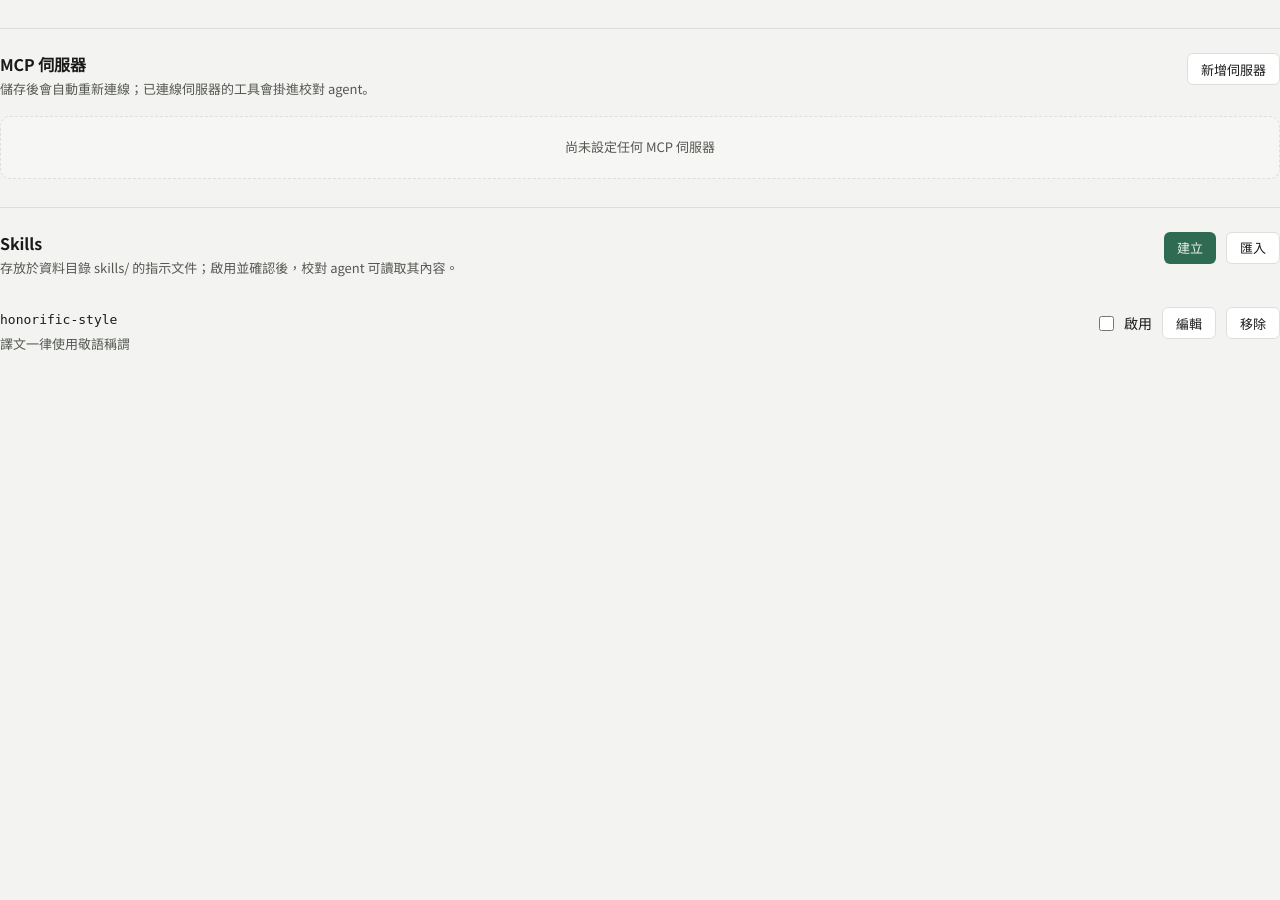
enabling an unconfirmed skill shows the SKILL.md; cancel keeps it off
What coordinates should you click on to do the following:
click the checkbox named "啟用 honorific-style"
I would click on:
 (1106, 323)
Its box is top-left (1099, 316), bottom-right (1114, 331).
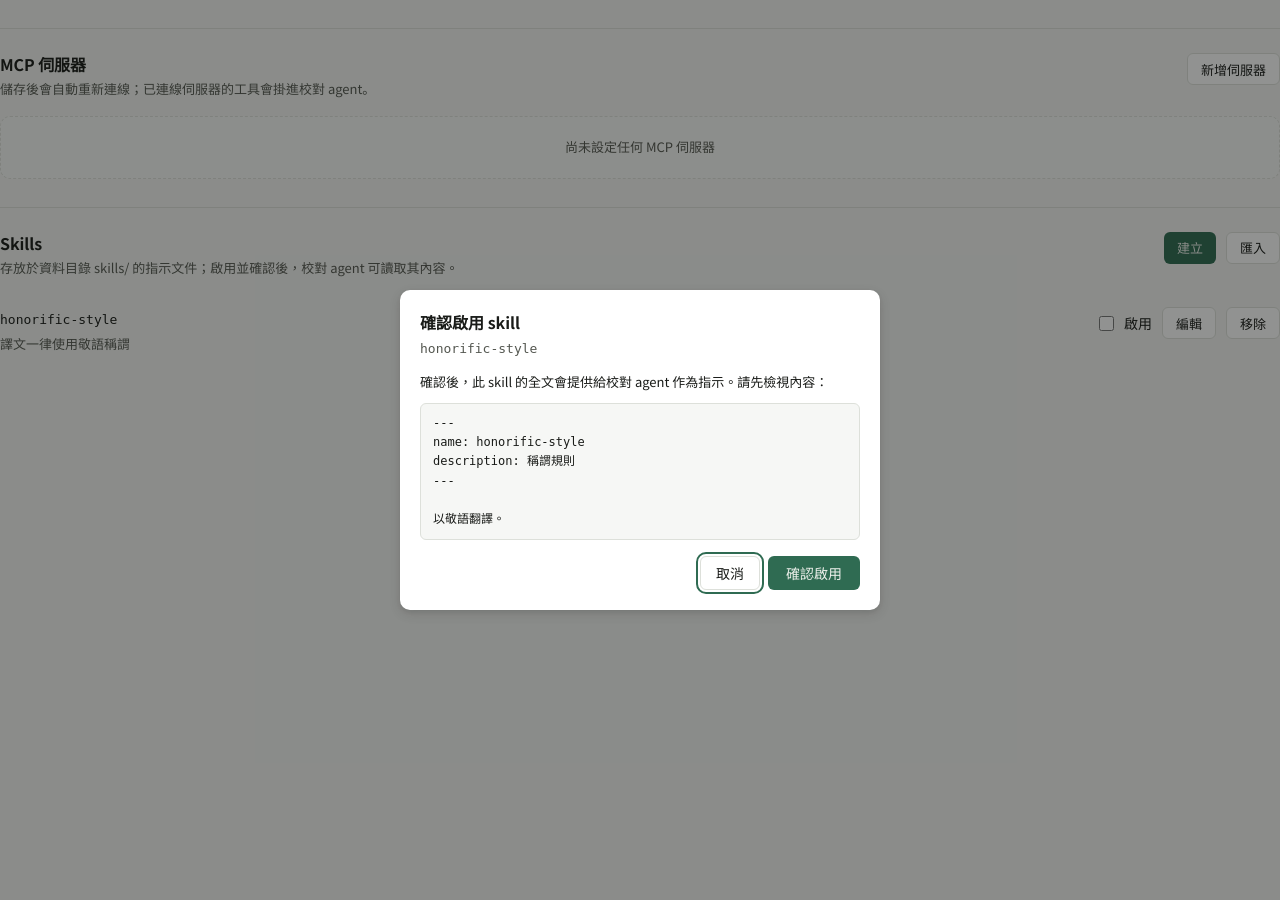
Now the dialog "確認啟用 skill" is shown, box top-left (400, 290), bottom-right (880, 610)
Now the text "--- name: honorific-style description: 稱謂規則 --- 以敬語翻譯。" is shown, box top-left (420, 403), bottom-right (860, 540)
What coordinates should you click on to do the following:
click the button "取消"
I would click on:
 (730, 573)
Its box is top-left (700, 556), bottom-right (760, 590).
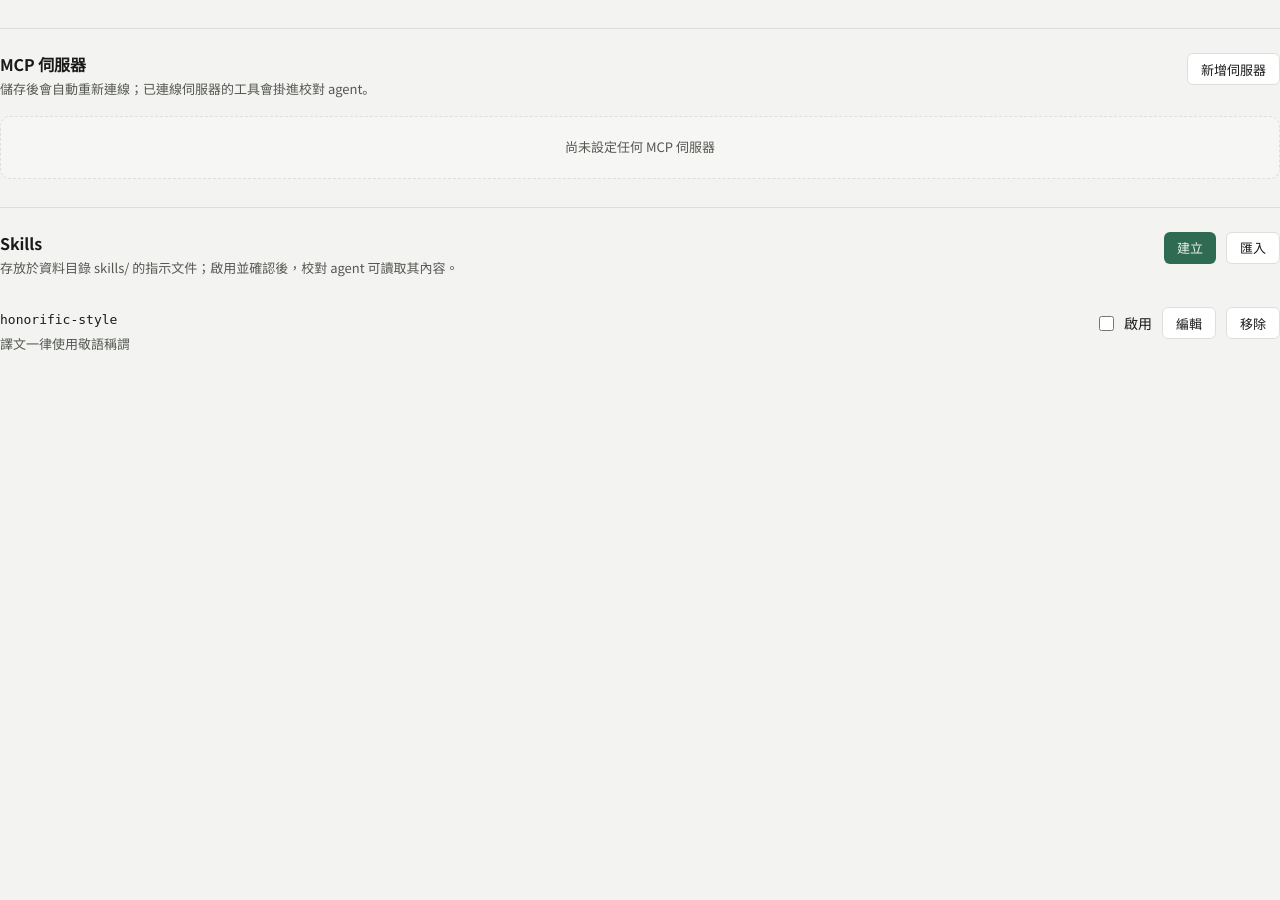
Expected: the checkbox named "啟用 honorific-style" is not checked, top-left (1099, 316), bottom-right (1114, 331)
Now the dialog is gone
